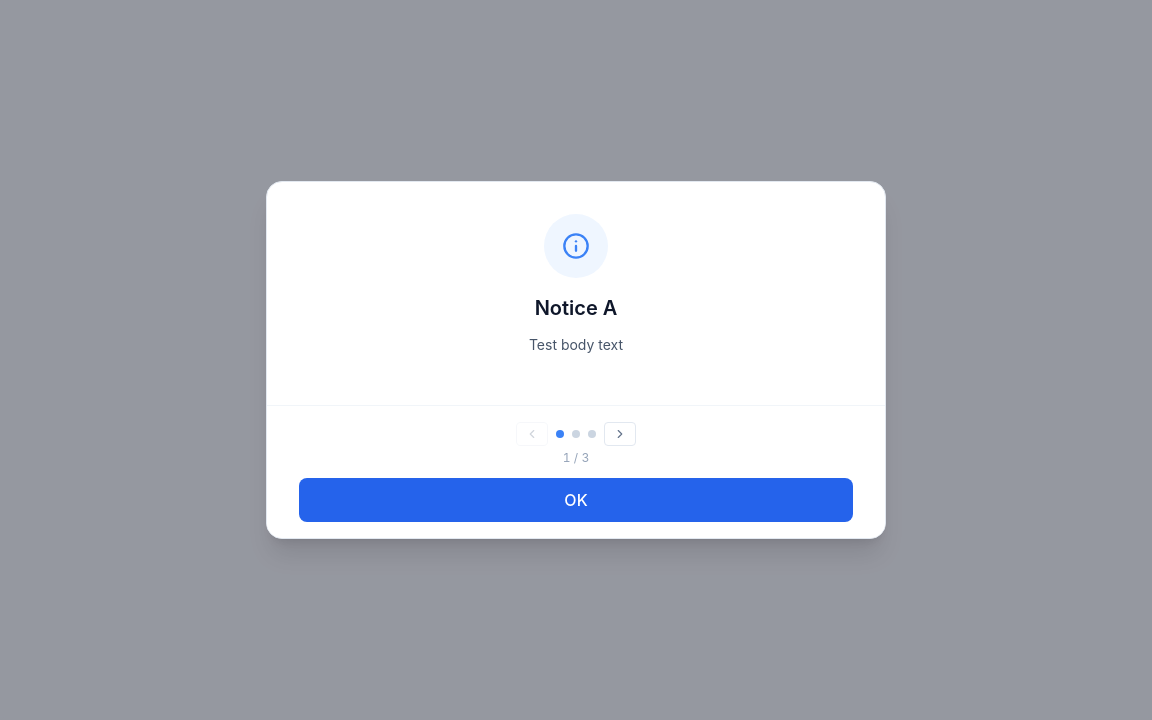
Test: ModalRenderer › FE-SN-MODAL-013: clicking a dot navigates directly to that page
This screenshot has width=1152, height=720.
Expected: the heading "Notice A" is shown, [535,296,617,320]
Note: Click third dot
Click the button named "Go to notice 3". click: (592, 434)
box: [588,430,596,438]
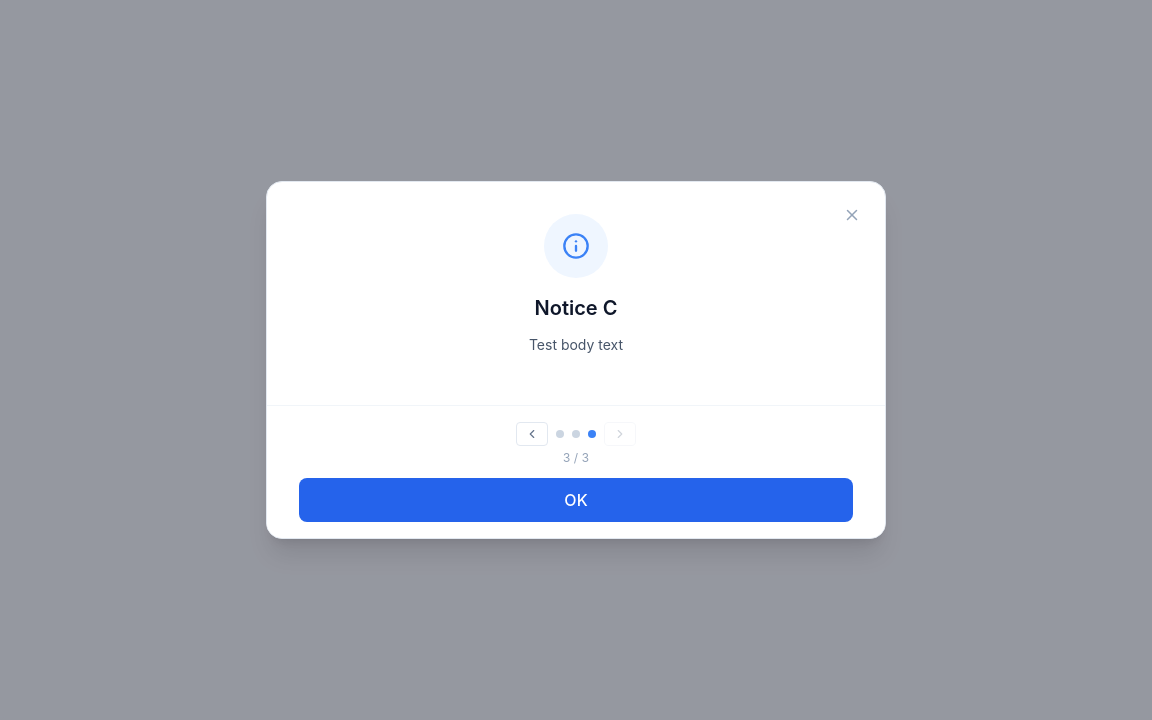
Expected: the text "3 / 3" is shown, [563,450,589,466]
Expected: the heading "Notice C" is shown, [534,296,617,320]
